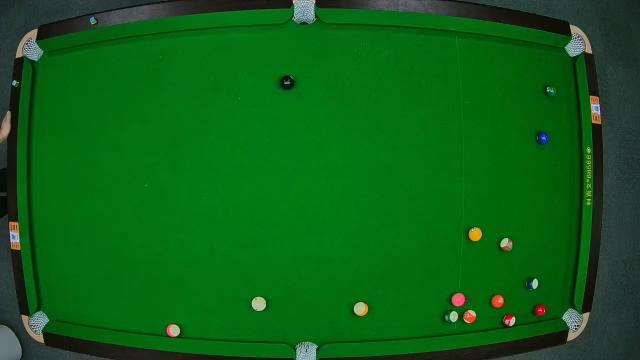bag1: (22, 41, 42, 62)
bag2: (294, 1, 316, 23)
bag3: (566, 34, 586, 56)
bag4: (26, 308, 48, 336)
bag5: (294, 342, 320, 360)
bag6: (560, 308, 584, 332)
ball0: (252, 296, 268, 312)
ball1: (468, 226, 484, 244)
ball10: (524, 278, 540, 290)
ball11: (503, 314, 517, 328)
ball12: (165, 324, 182, 338)
ball13: (462, 308, 476, 324)
ball14: (442, 311, 460, 325)
ball15: (498, 238, 516, 253)
ball2: (536, 131, 550, 146)
ball3: (532, 302, 548, 318)
ball4: (452, 292, 466, 308)
ball5: (492, 294, 506, 310)
ball6: (544, 84, 560, 98)
ball9: (353, 302, 371, 318)
